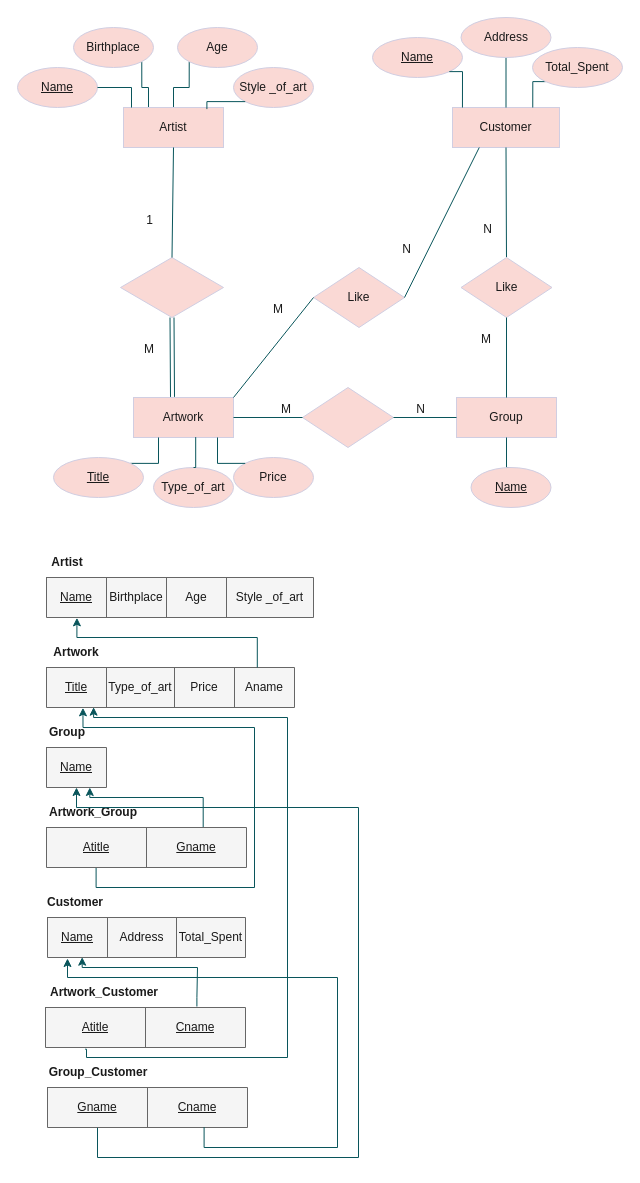
This 640x1183 diagram has some shape labels left out. Each missing label, with the centre of its shape:
Belongs_to: point 348,417
Create: point 172,287
